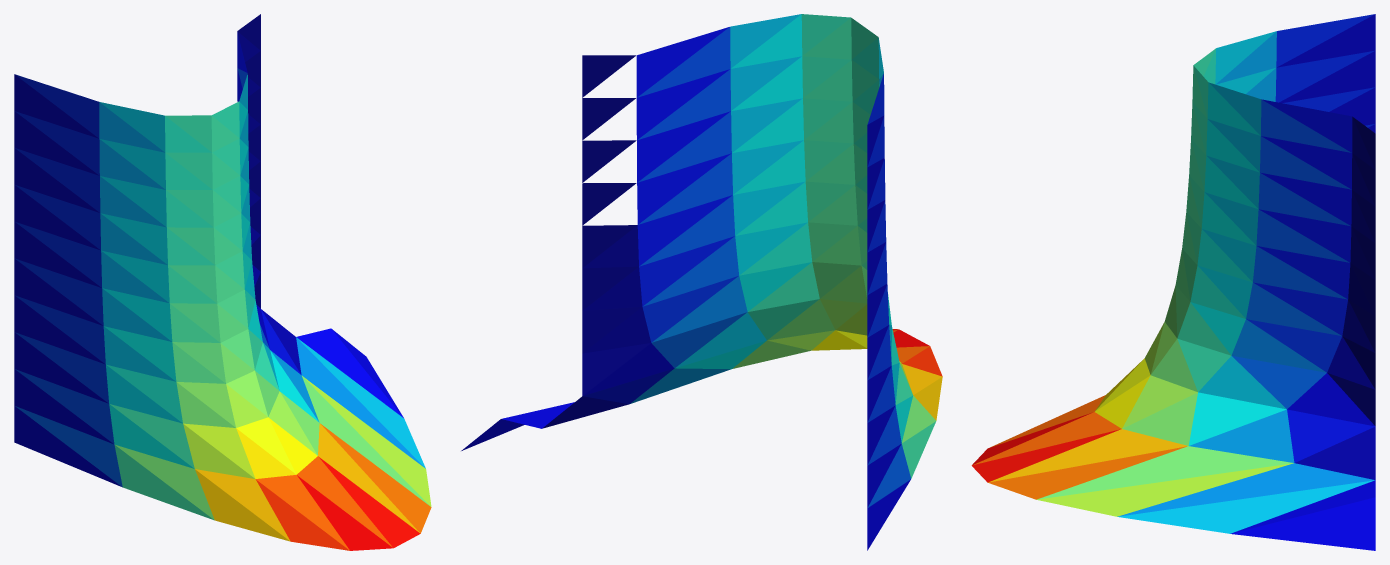
3 renders of one model, left to right at view 1: azimuth 30°, elevation 25°; view 2: azimuth 150°, elevation 25°; view 3: azimuth 270°, elevation 25°, orthographic. The views are drawn at different scales.
Visible parts, largest first — view 1: pvt; view 2: pvt; view 3: pvt.
Boxes of the visible parts, box(x1,y1,x2,y2) form: pvt: box(14, 14, 431, 550); pvt: box(461, 14, 942, 550); pvt: box(971, 14, 1375, 550).
Bounding box in the file's own units: 1 × 1 × 1.
